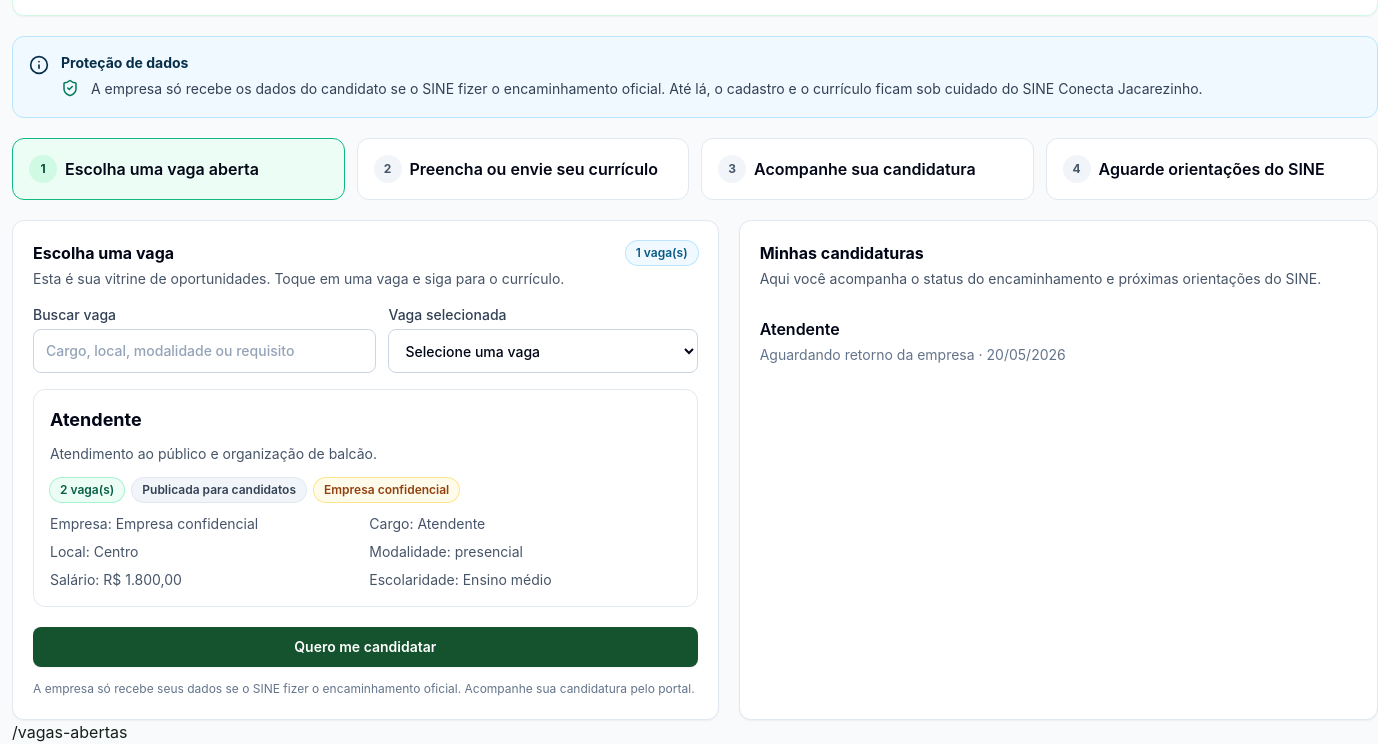
WorkerJobsPage › mostra mensagem amigável se nenhuma vaga estiver selecionada
The width and height of the screenshot is (1378, 744).
(page scrolled)
expect the text "Atendimento ao público e organização de balcão." is shown: met, box [50,442,377,466]
Click the button "Quero me candidatar" at (365,647), box [33,627,698,667]
(page scrolled)
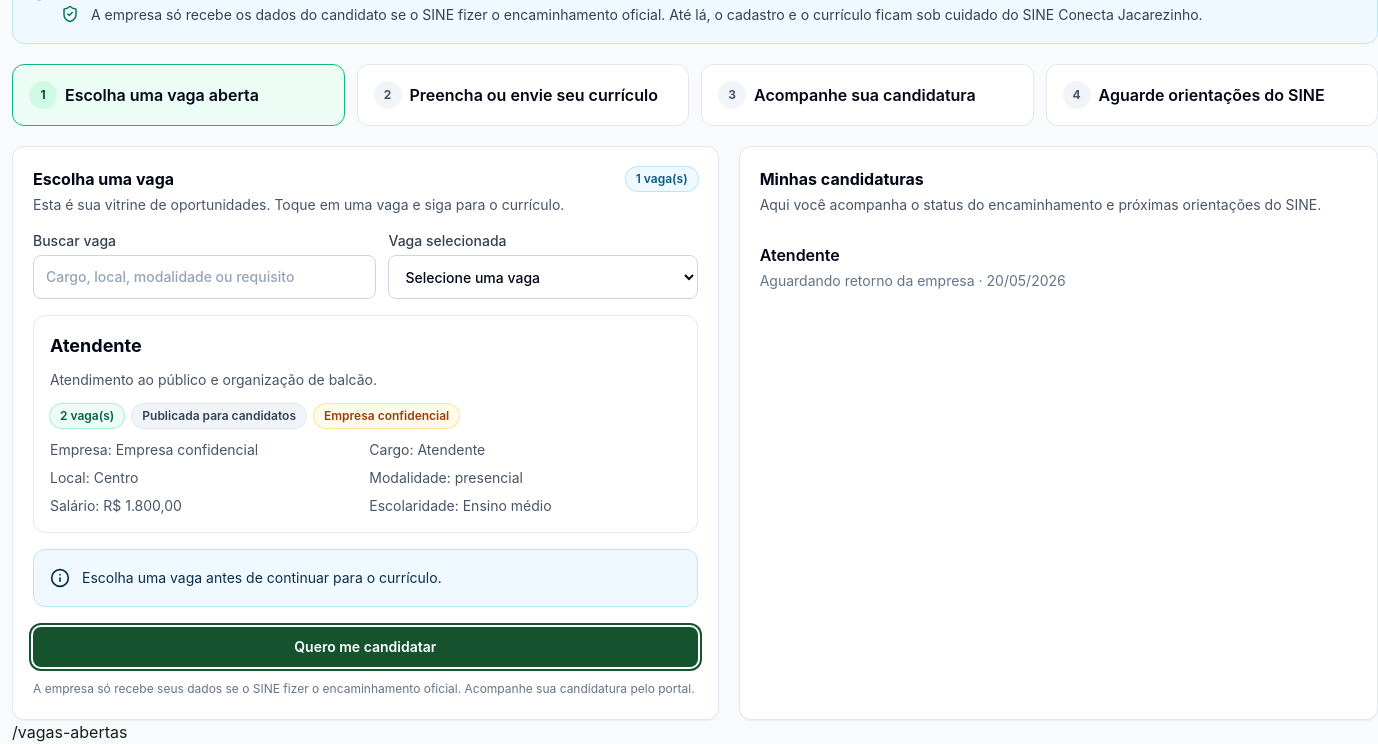
expect the text with test id "location" reads "/vagas-abertas": met, box [12,722,127,742]
expect the text "Escolha uma vaga antes de continuar para o currículo." is shown: met, box [82,566,442,590]
